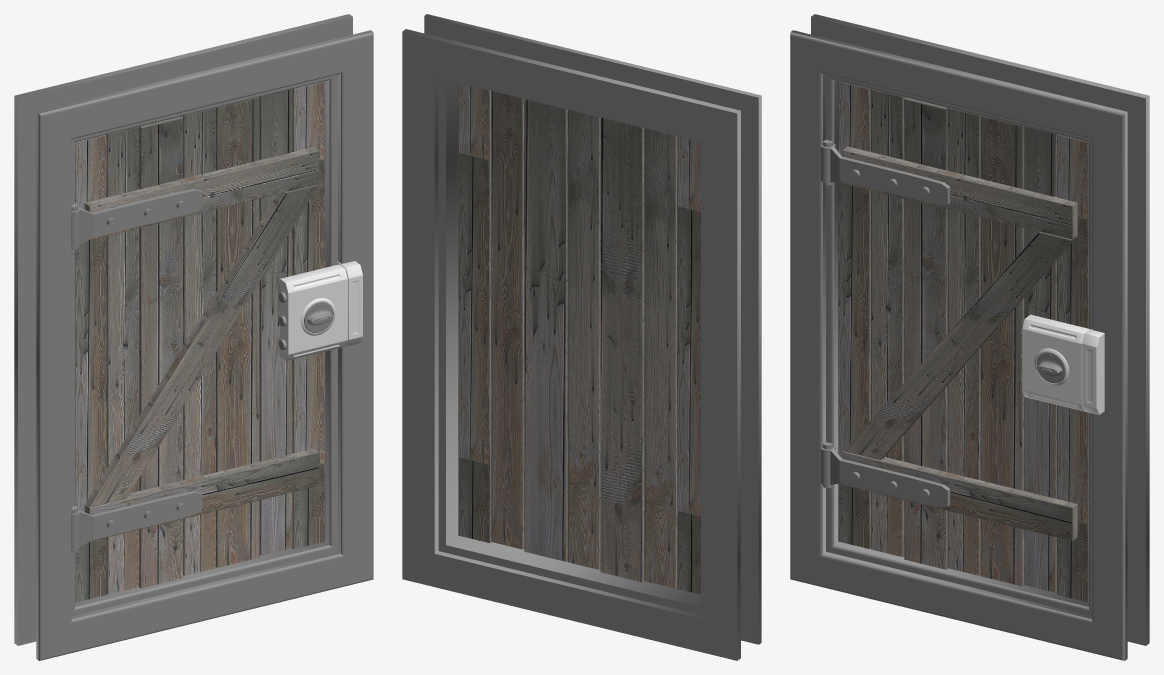
The model's file is finaldoor.FBX.
3 renders of one model, left to right at view 1: azimuth 30°, elevation 25°; view 2: azimuth 150°, elevation 25°; view 3: azimuth 330°, elevation 25°, orthographic.
Visible parts, largest first — view 1: Plane09, Line02; view 2: Plane09, Line02; view 3: Plane09, Line02.
Boxes of the visible parts, x1=… form: Plane09: x1=71, y1=81, x2=347, y2=602; Line02: x1=14, y1=14, x2=373, y2=660; Plane09: x1=458, y1=83, x2=700, y2=594; Line02: x1=402, y1=14, x2=761, y2=660; Plane09: x1=820, y1=81, x2=1089, y2=602; Line02: x1=790, y1=14, x2=1149, y2=660.
Bounding box in the file's own units: 38354 × 59890 × 7691.
Materials: 4 (1 with a texture image).
